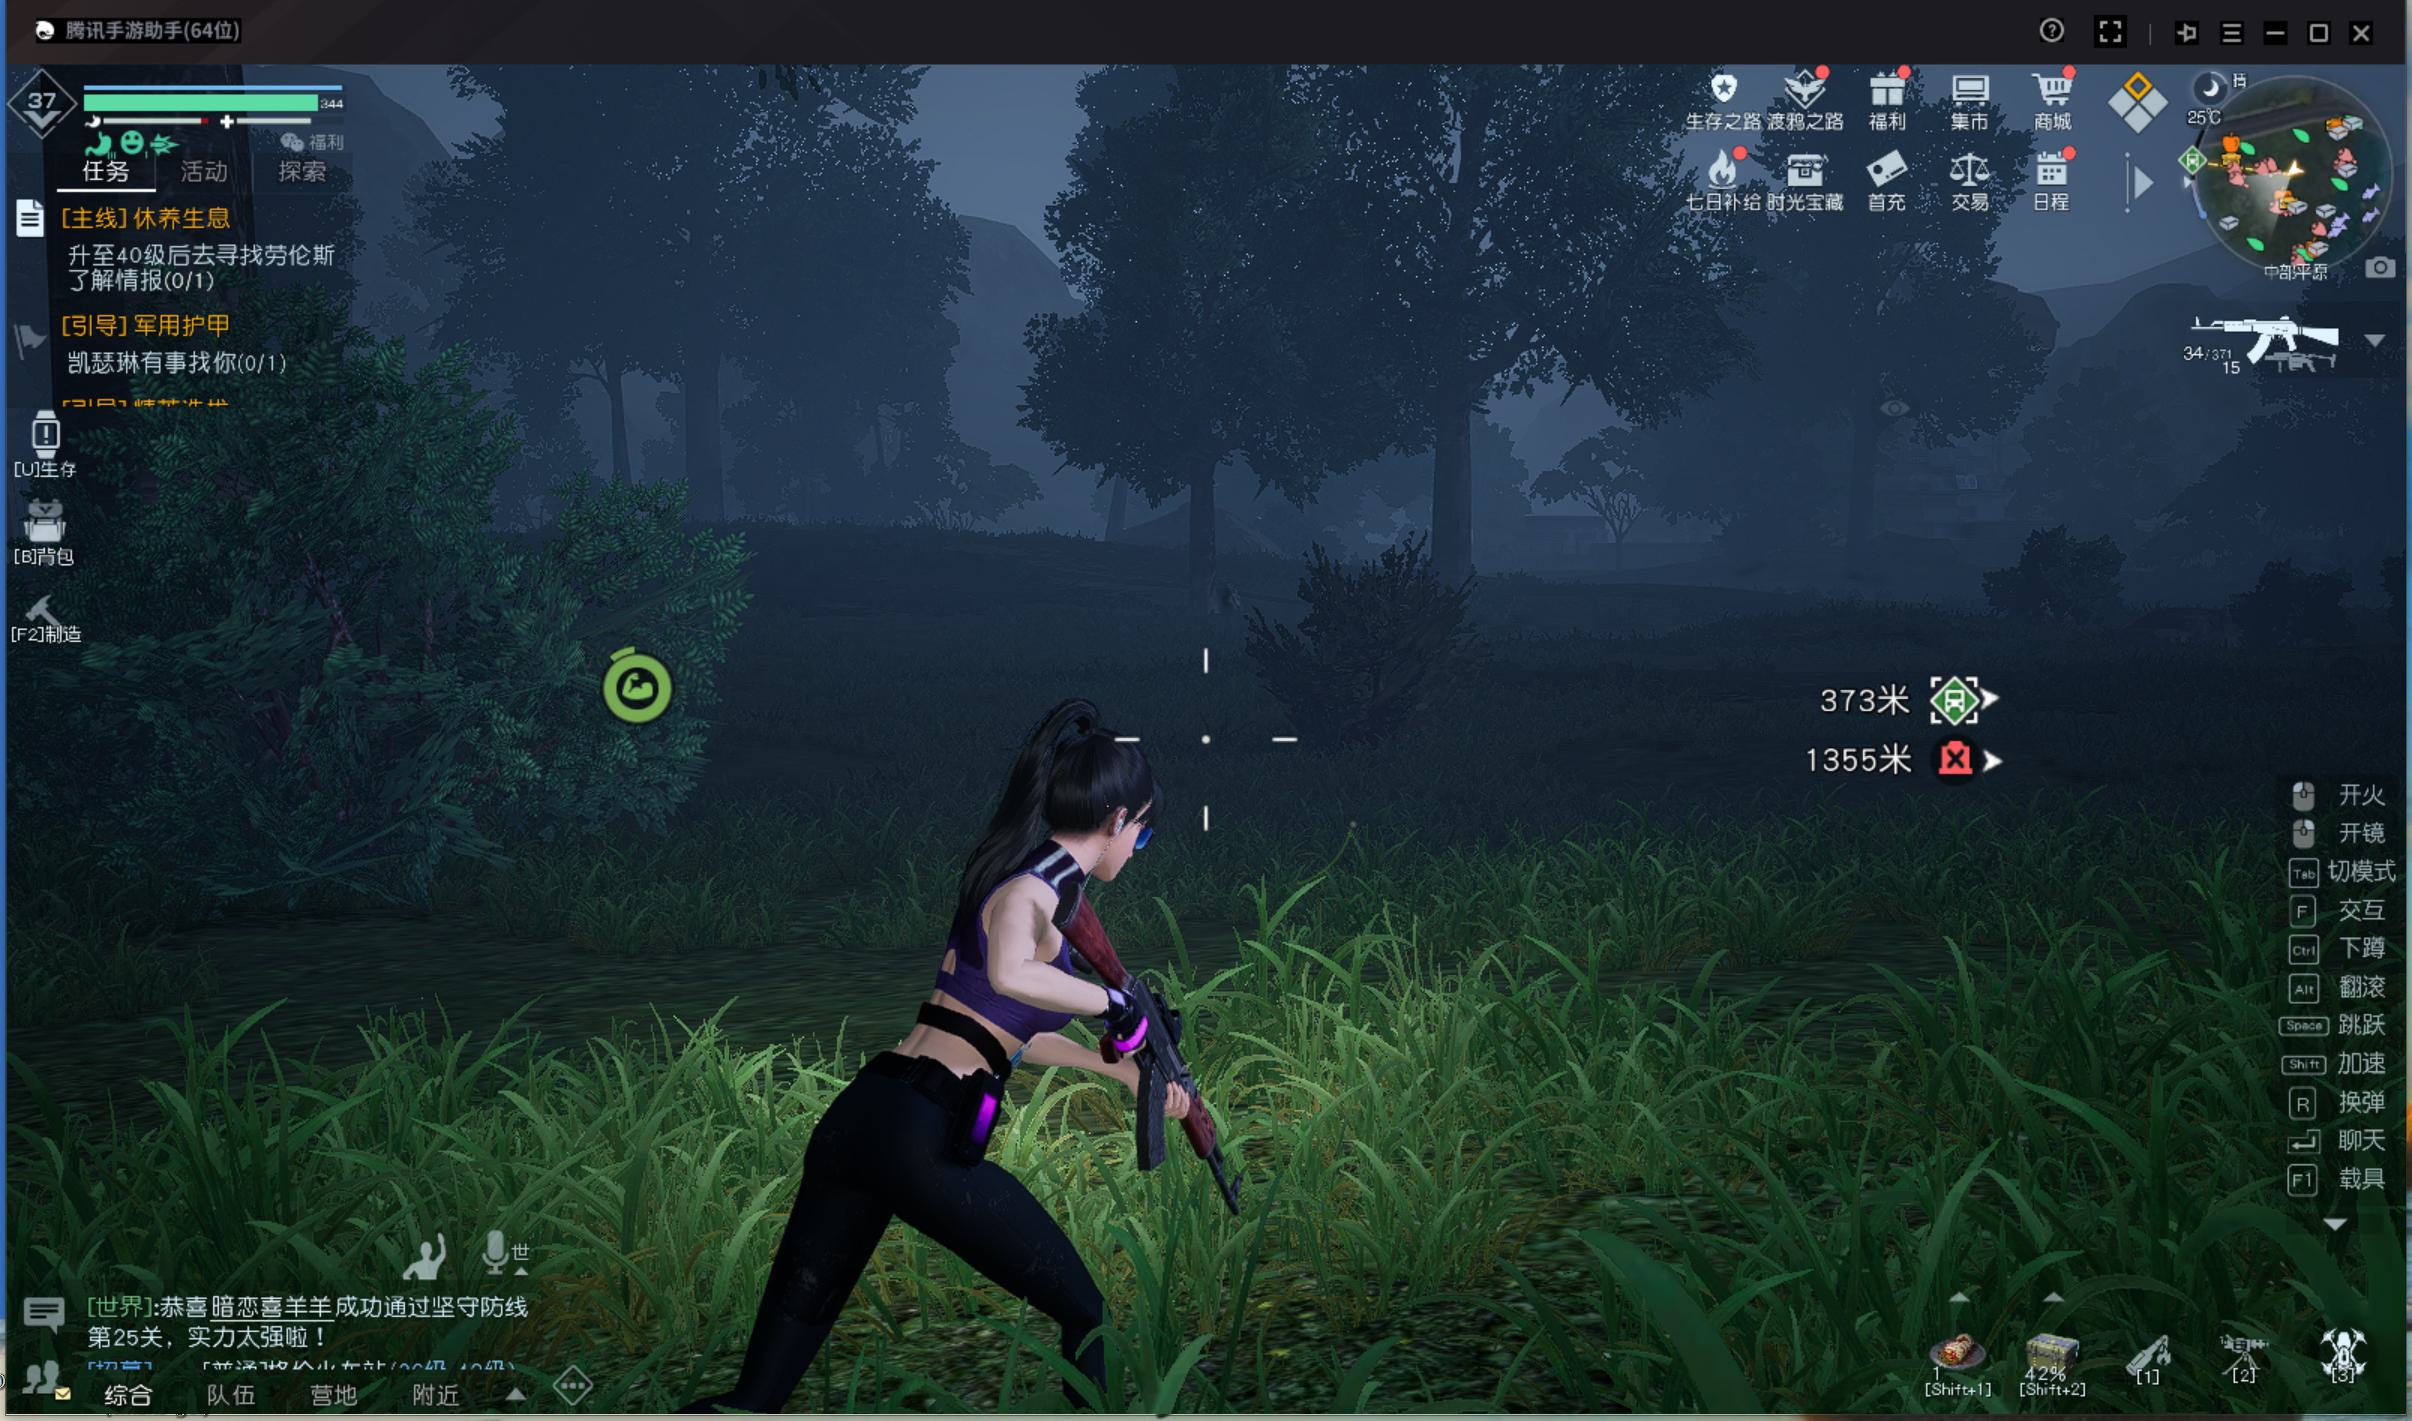tree: (675, 337, 731, 551), (1423, 404, 1483, 590), (1181, 458, 1226, 580)
